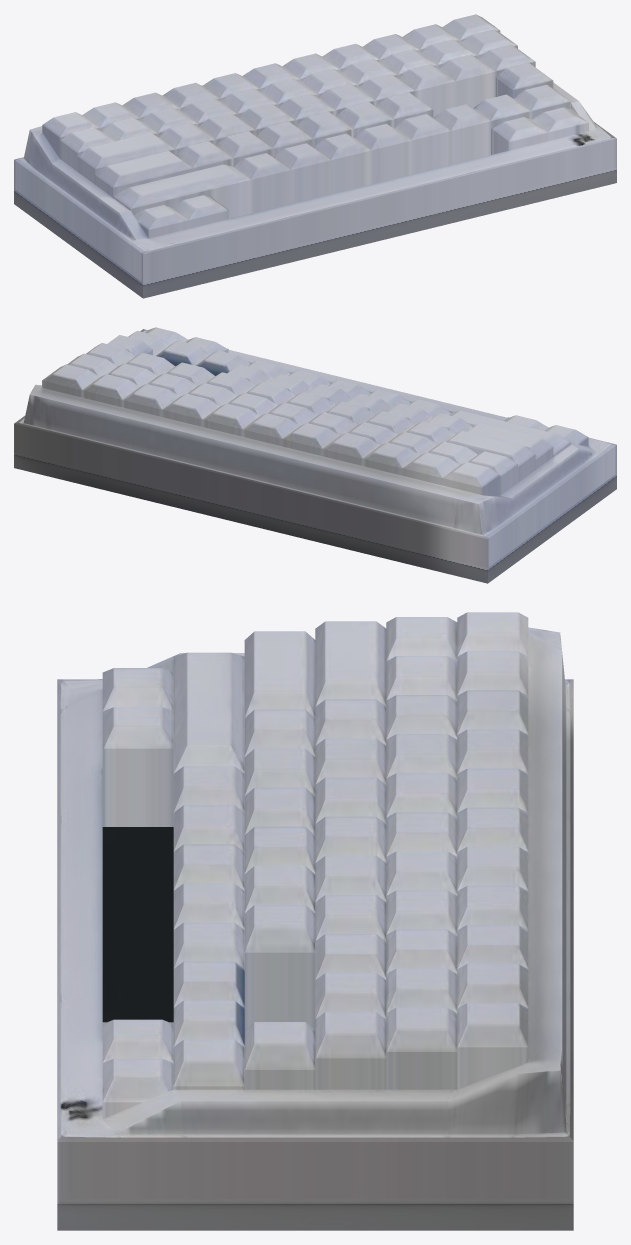
File: Old_Computer_Keyboard_New_8.glb
The picture shows the model from 3 angles, top to bottom: view 1: azimuth 30°, elevation 25°; view 2: azimuth 150°, elevation 25°; view 3: azimuth 270°, elevation 25°; orthographic projection. The views are drawn at different scales.
Parts seen in each view (by area): view 1: Cube; view 2: Cube; view 3: Cube.
Boxes of the visible parts, left/top/right/bottom form: Cube: left=14, top=14, right=616, bottom=298; Cube: left=14, top=327, right=616, bottom=583; Cube: left=57, top=612, right=573, bottom=1230.
Size of the model in its own units: 3.21 by 0.6005 by 1.52.
1 material, 1 textured.
